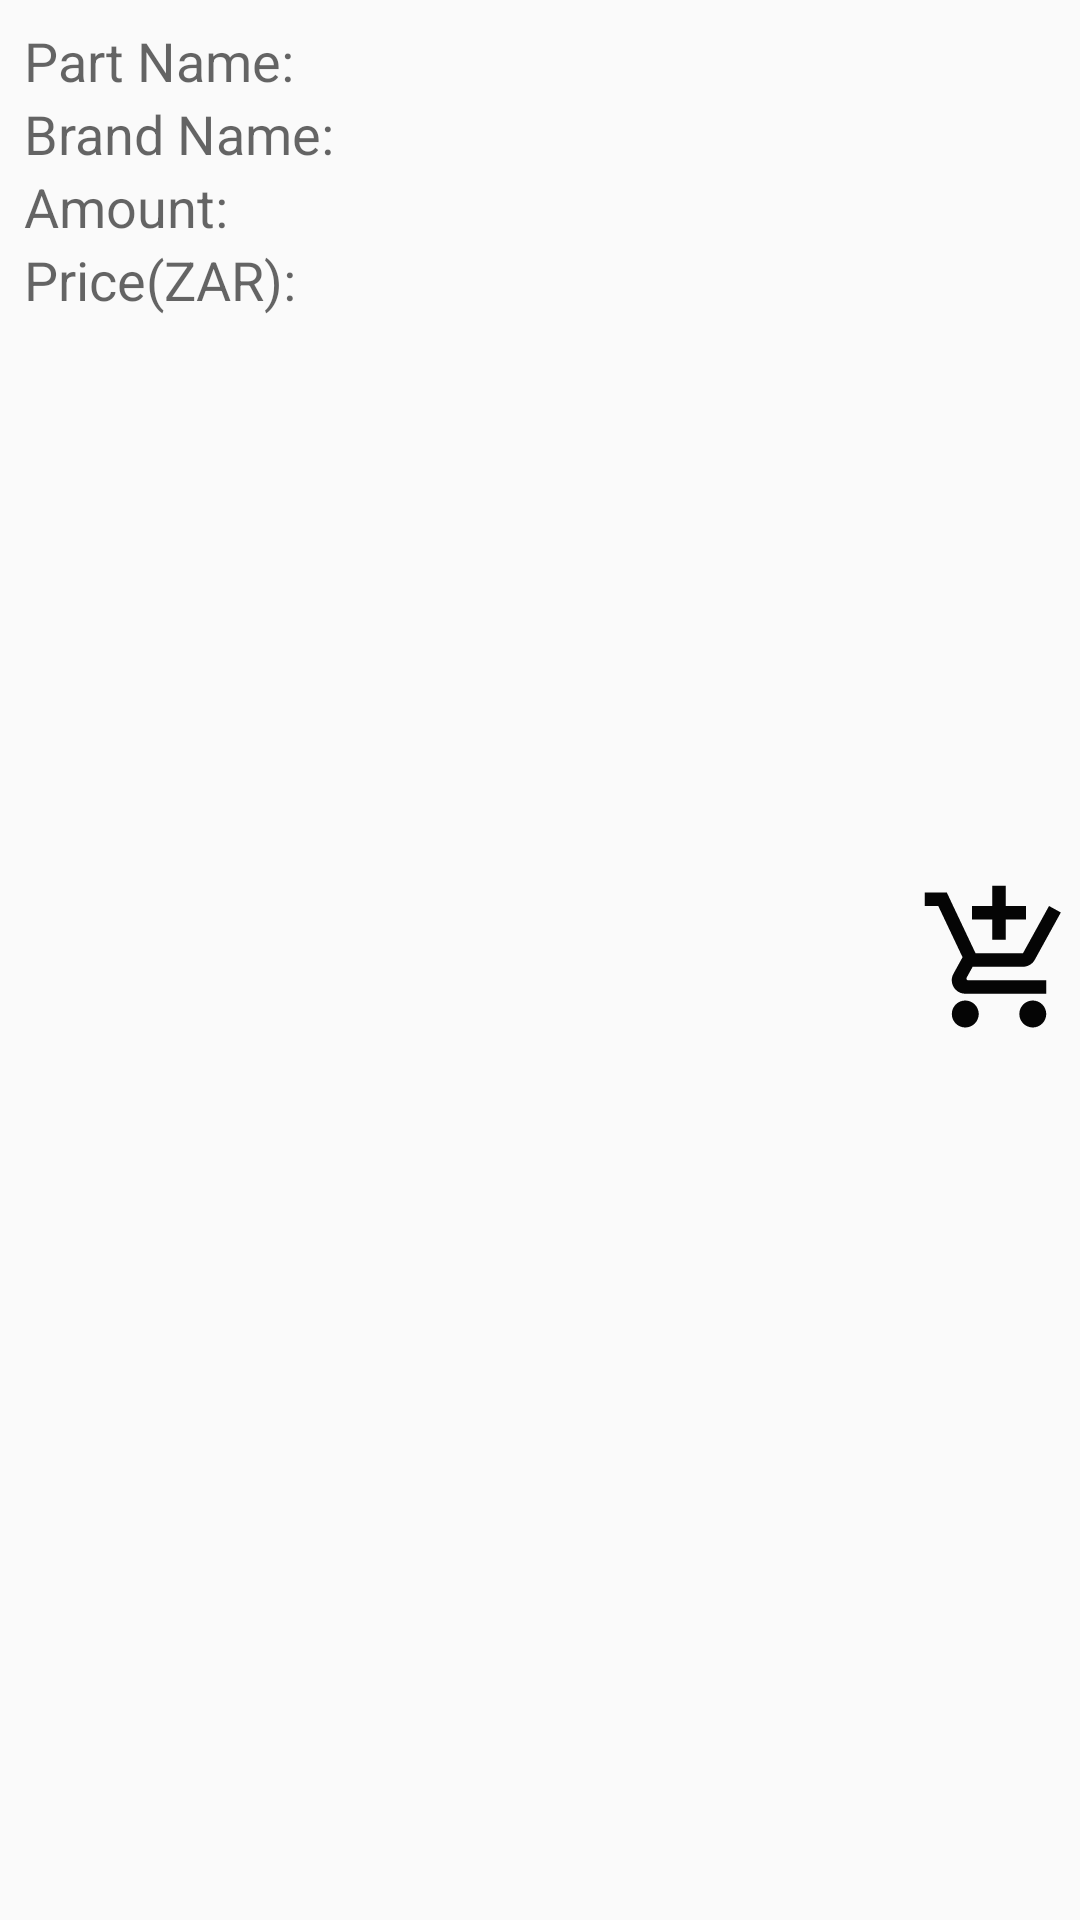

Point at icon controls on the screen. Image size 1080w x 1920h, points as [x,y].
add shopping cart: [992,956]
